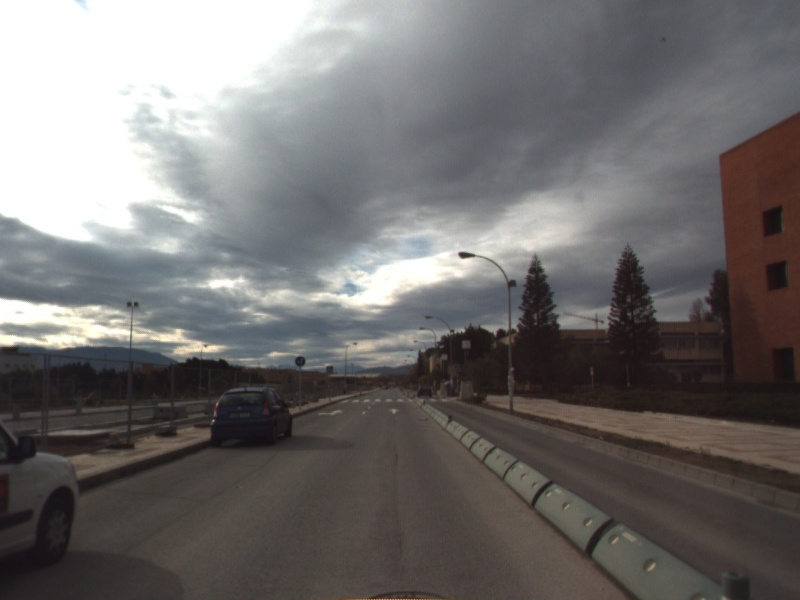STRAIGHT: (386, 406, 402, 416)
STRAIGHT_LEFT: (316, 407, 345, 418)
